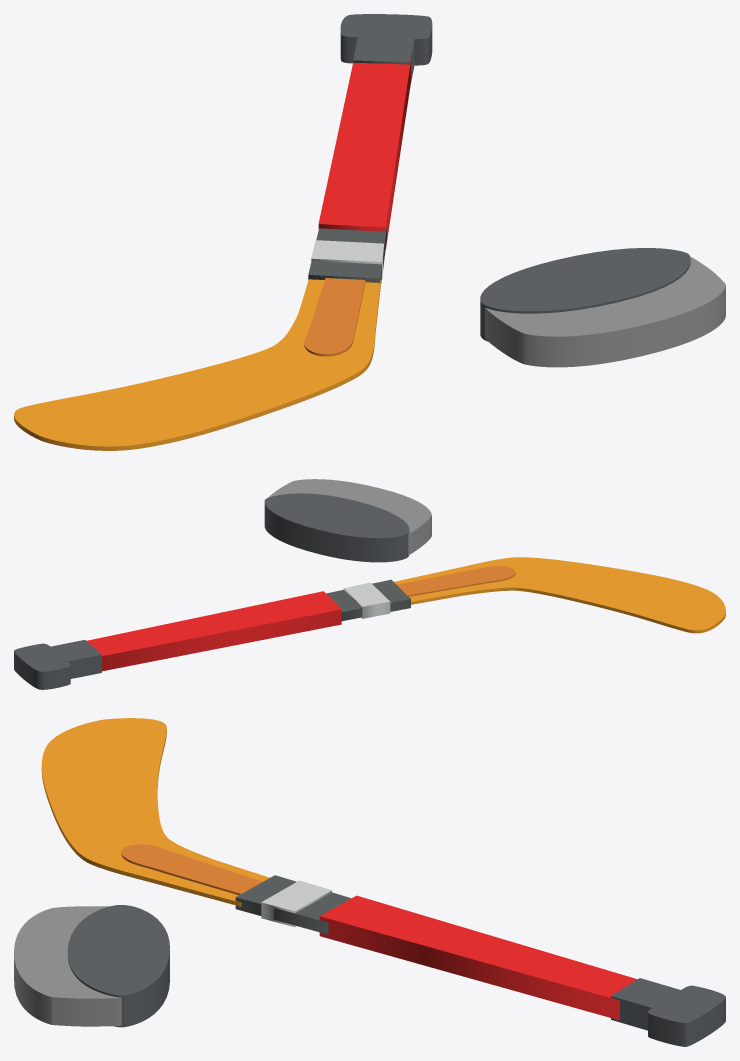
Rendered from emoji_u1f3d2.glb.
3 renders of one model, top to bottom at view 1: azimuth 30°, elevation 25°; view 2: azimuth 150°, elevation 25°; view 3: azimuth 270°, elevation 25°, orthographic. The views are drawn at different scales.
Parts seen in each view (by area): view 1: emoji_u1f3d2; view 2: emoji_u1f3d2; view 3: emoji_u1f3d2.
Part boxes in pixels (bbox=[...]): emoji_u1f3d2: bbox=[14, 14, 725, 450]; emoji_u1f3d2: bbox=[14, 479, 725, 689]; emoji_u1f3d2: bbox=[14, 718, 725, 1046].
Bounding box in the file's own units: 0.034 × 0.0016 × 0.0324.
